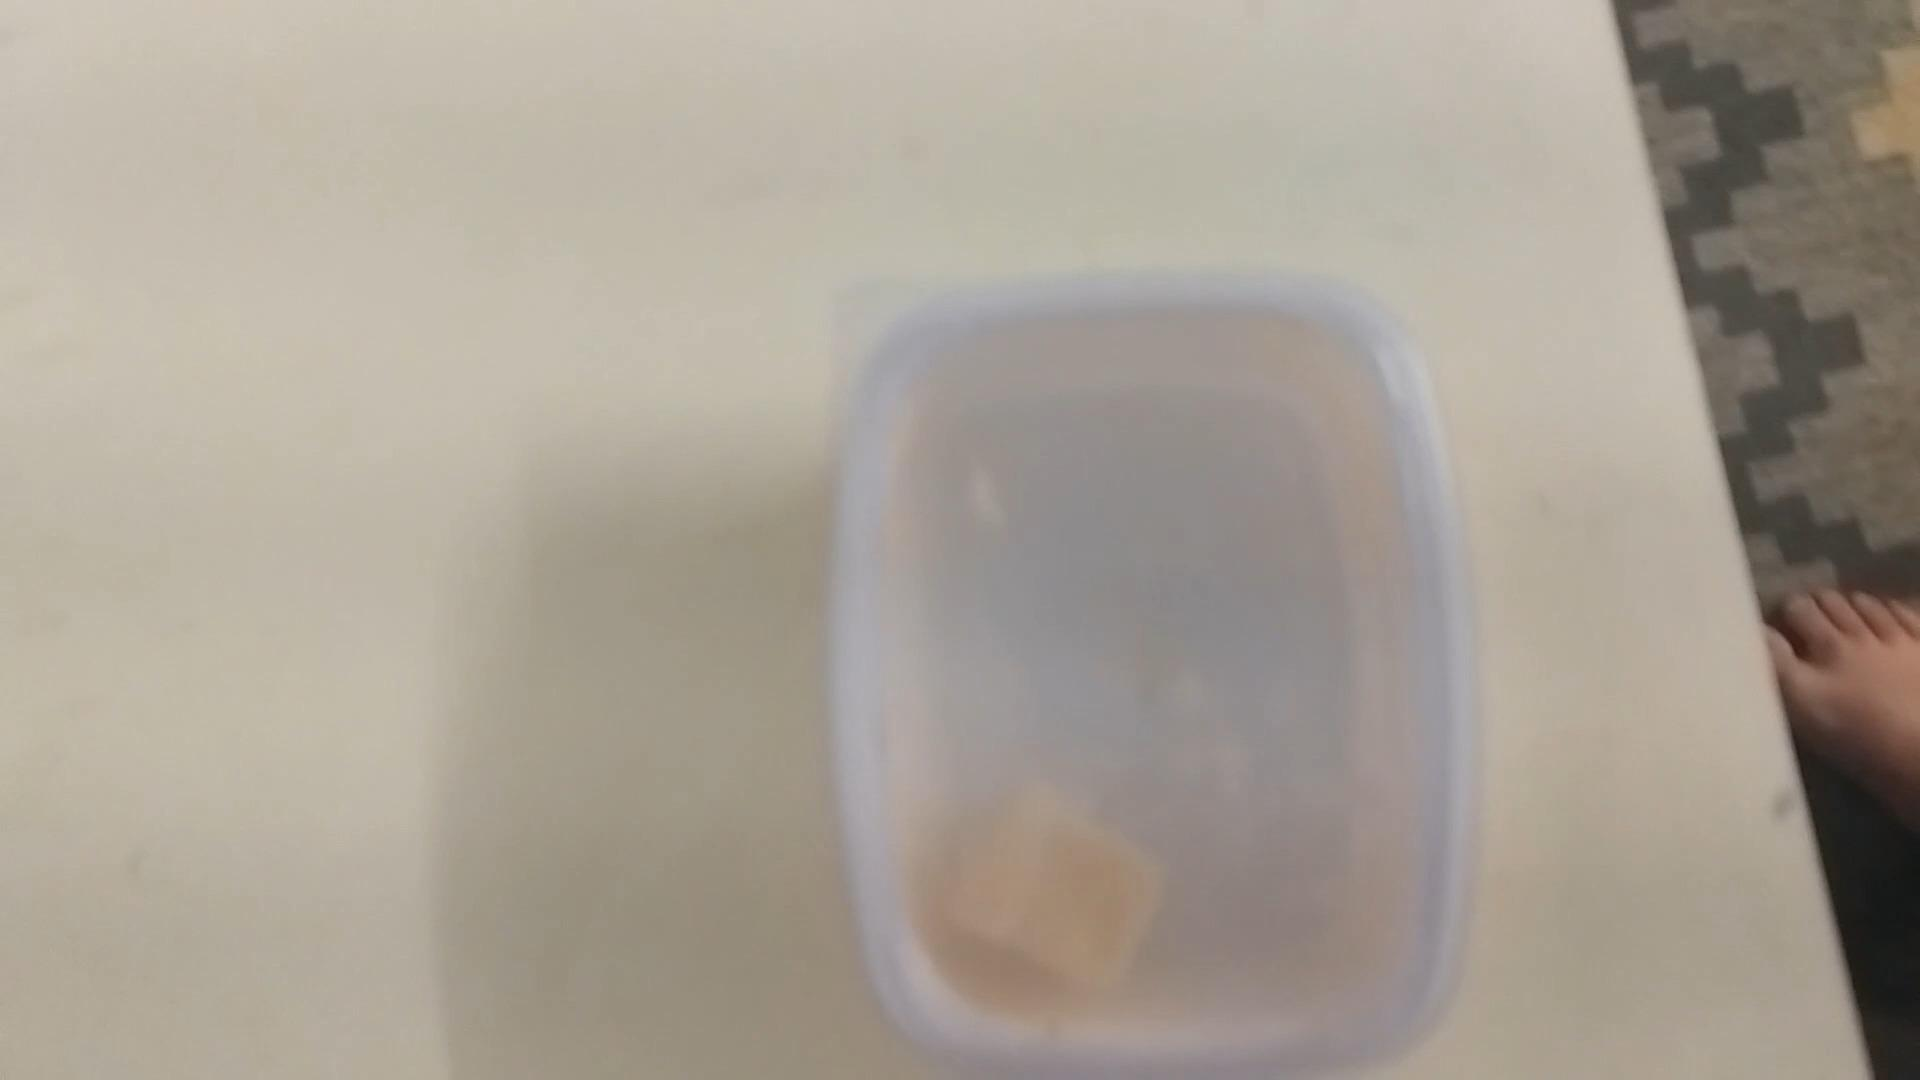butter: (832, 282, 1462, 1080)
